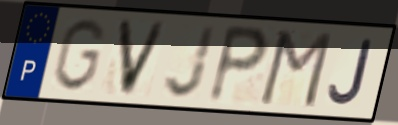G: (49, 16, 109, 94)
J: (161, 23, 219, 101), (326, 37, 375, 108)
M: (256, 28, 336, 111)
P: (204, 22, 273, 107)
V: (115, 16, 170, 99)
